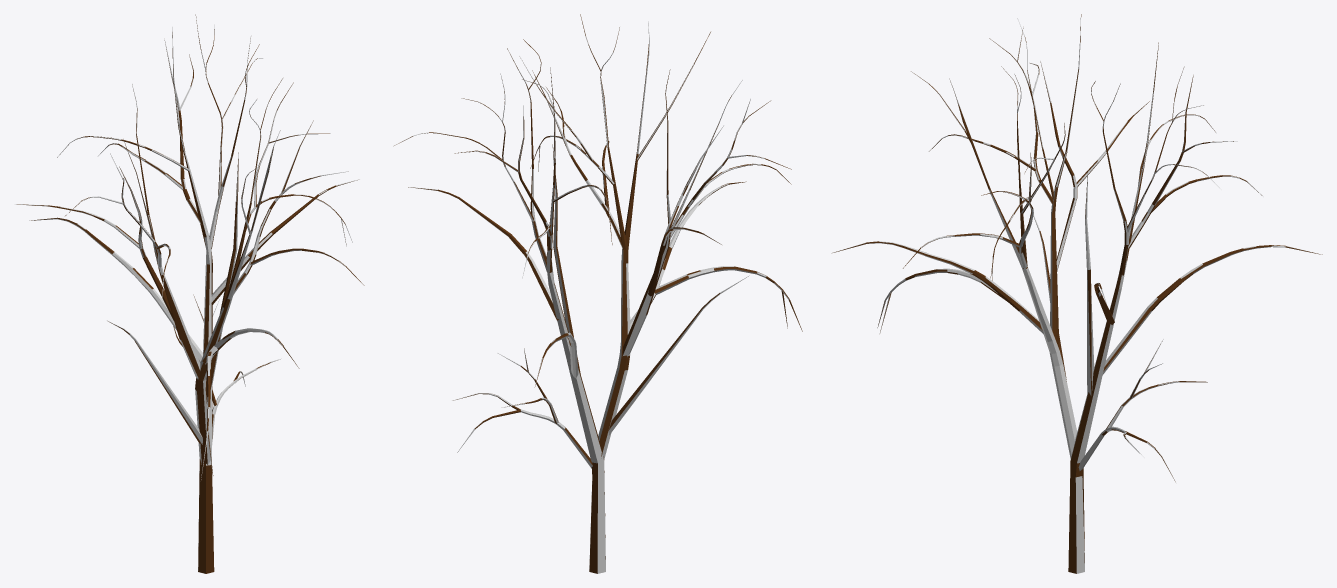
The model's file is Tree_27.fbx.
3 views of the same model, side by side, from view 1: azimuth 30°, elevation 25°; view 2: azimuth 150°, elevation 25°; view 3: azimuth 270°, elevation 25° (orthographic). The views are drawn at different scales.
Parts seen in each view (by area): view 1: Tree_27; view 2: Tree_27; view 3: Tree_27.
Part boxes in pixels (x1=…): Tree_27: x1=14, y1=14, x2=364, y2=573; Tree_27: x1=393, y1=14, x2=802, y2=573; Tree_27: x1=831, y1=14, x2=1322, y2=573.
Size of the model in its own units: 418 by 615 by 516.
